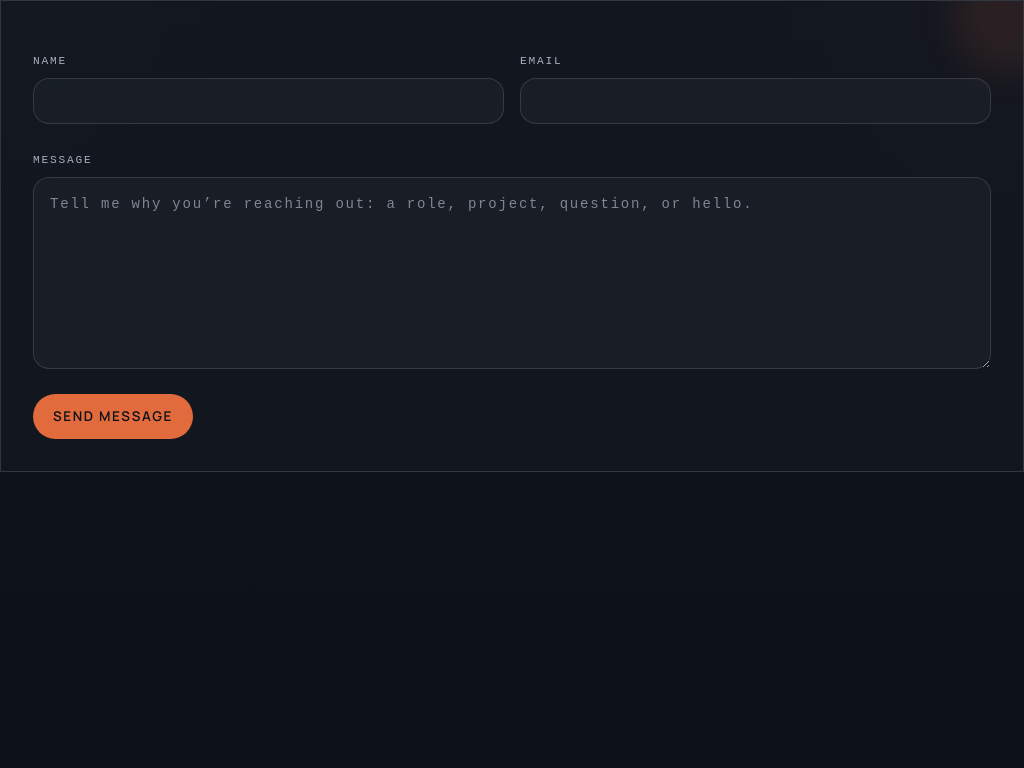
Test: ContactForm › submits form payload and shows success message
Type "Jane Dev" into the field labelled "Name" at (268, 101), box [33,78,504,124]
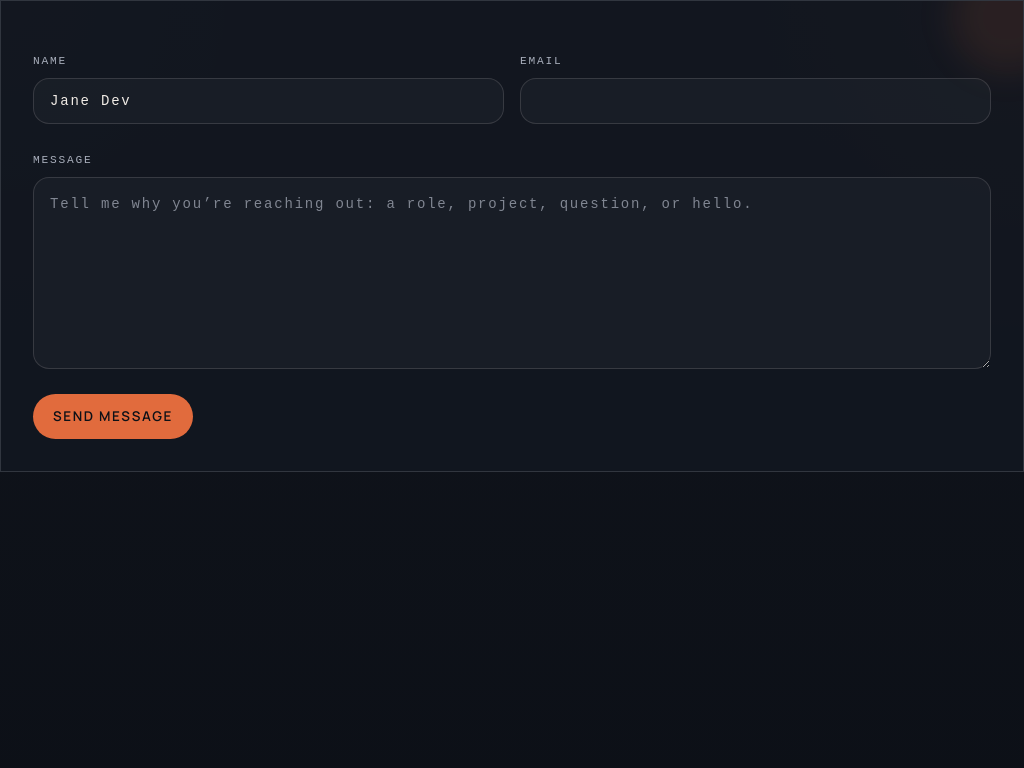
Type "jane@example.com" into the field labelled "Email" at (756, 101), box [520,78,991,124]
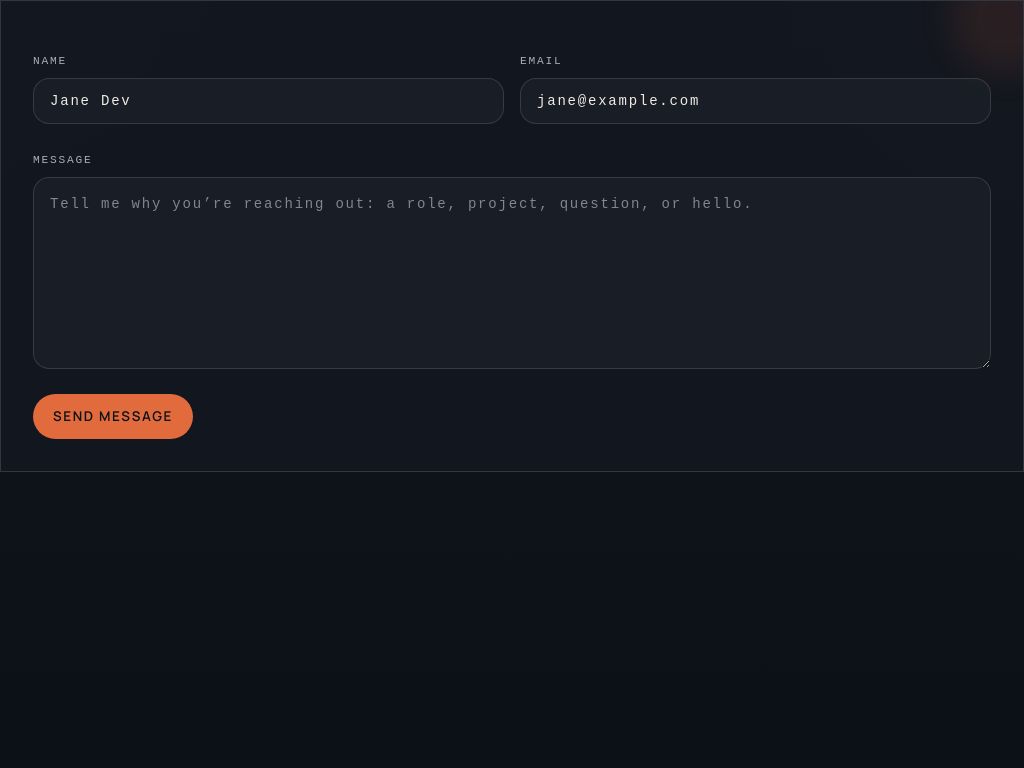
Replace the text in the text box labelled "Message" with "Hello, this is a long-enough test message." at (512, 273), box [33,177,991,369]
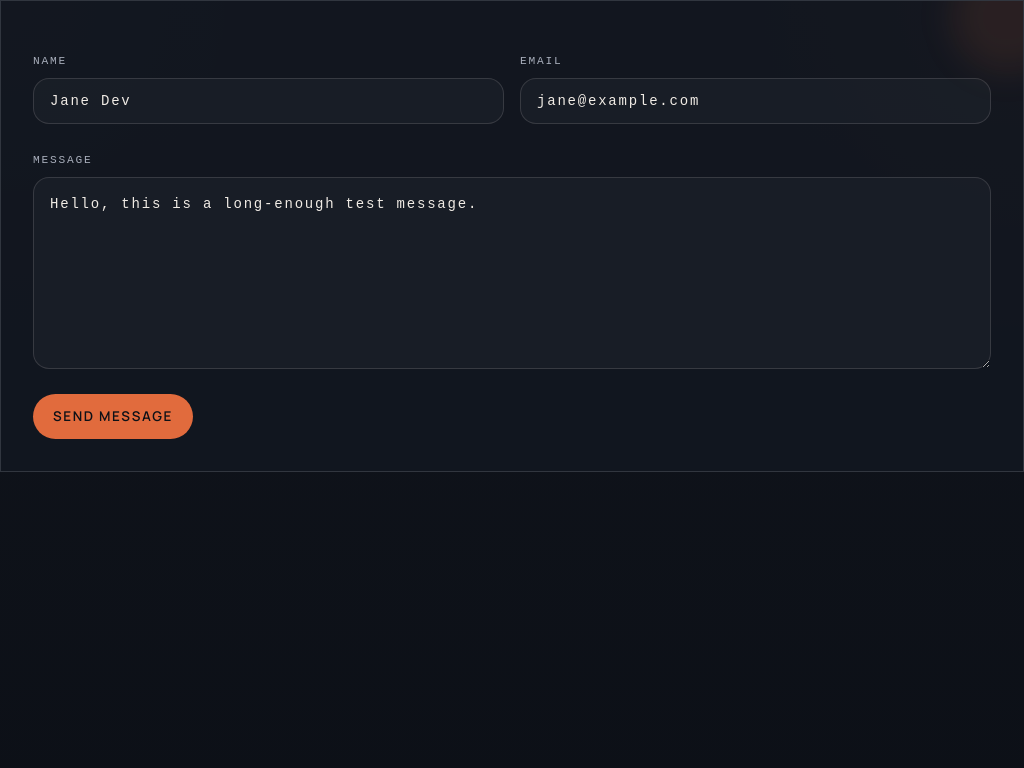
Submit the form "Name Email Message Send message"
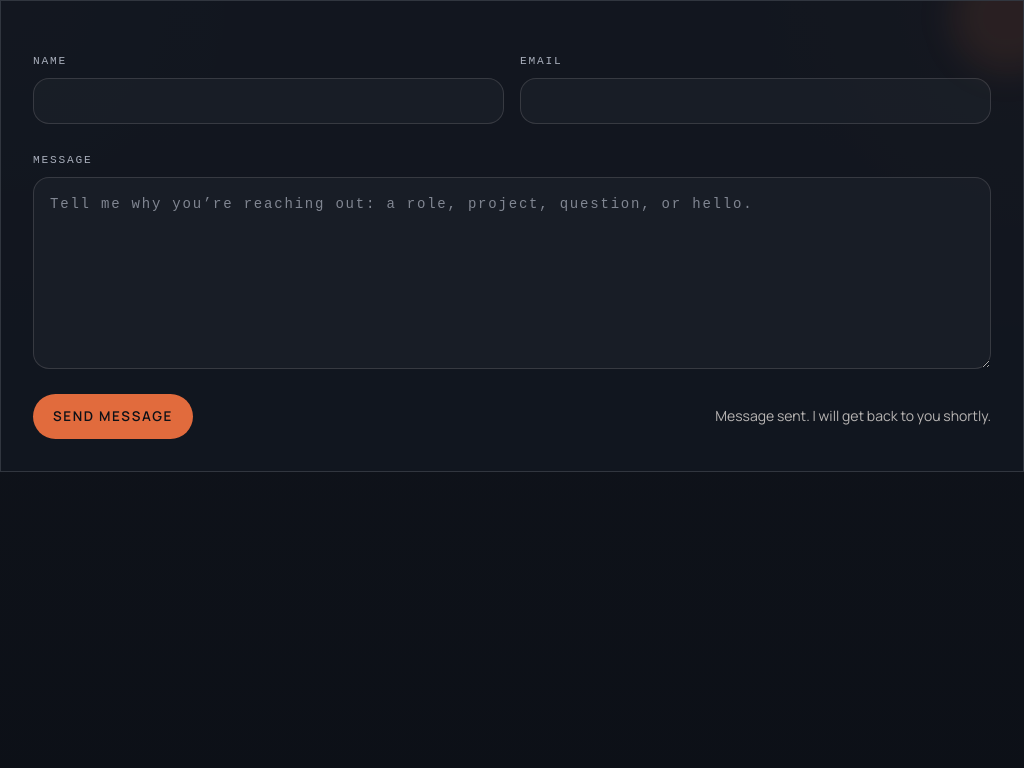
Now the text "Message sent. I will get back to you shortly." is shown, box [715,406,991,426]
